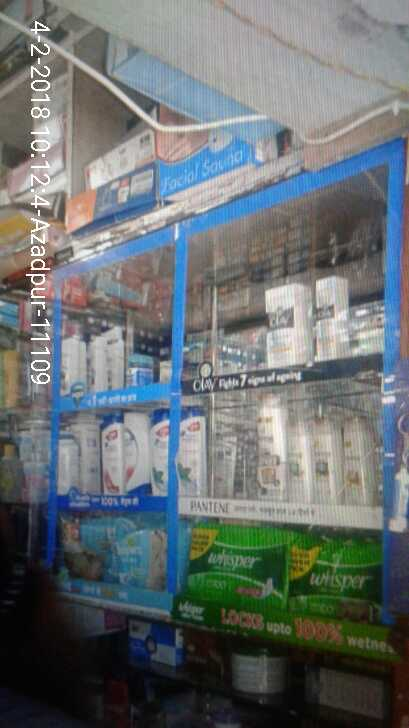vicks: (123, 355, 155, 391)
